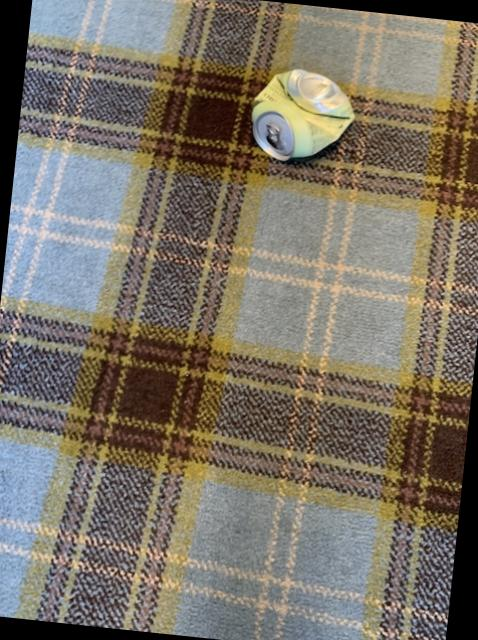metal: (251, 71, 353, 162)
